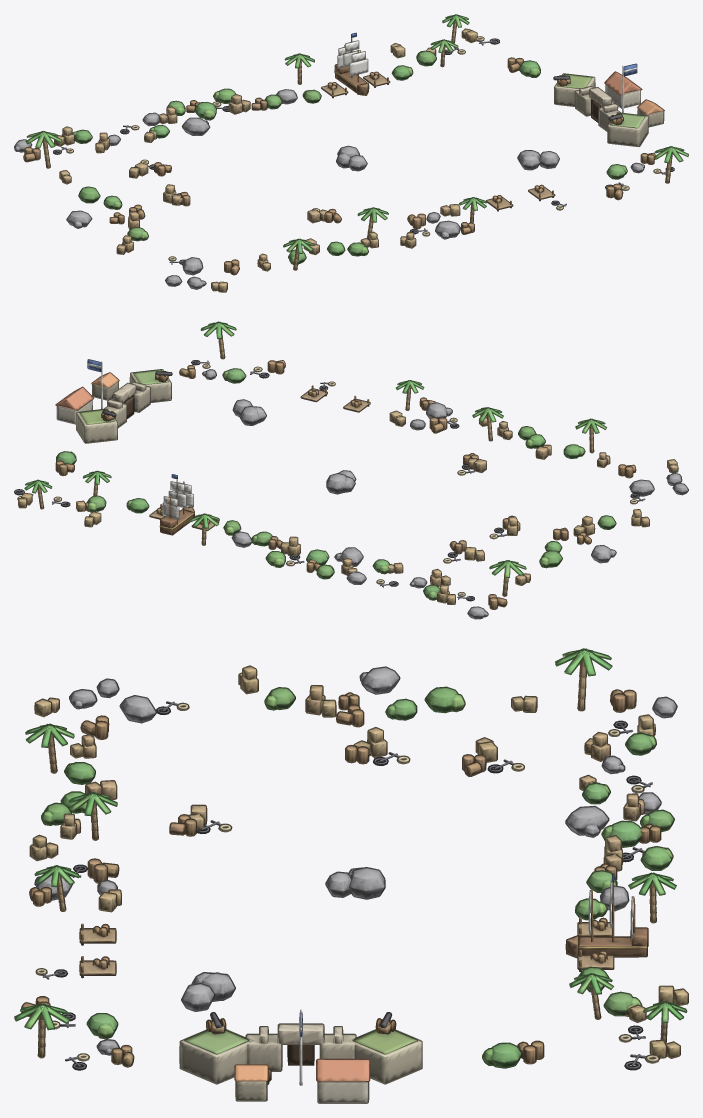
Rendered from smugglers_harbor.glb.
3 views of the same model, one above another, from view 1: azimuth 30°, elevation 25°; view 2: azimuth 150°, elevation 25°; view 3: azimuth 270°, elevation 25° (orthographic). The views are drawn at different scales.
Visible parts, largest first — view 1: Baked_matte, Baked_matte_Outline, Baked_metal; view 2: Baked_matte, Baked_matte_Outline, Baked_metal, Baked_metal_Outline; view 3: Baked_matte, Baked_matte_Outline, Baked_metal, Baked_metal_Outline.
Boxes of the visible parts, bbox=[...] form: Baked_matte: bbox=[15, 15, 688, 291]; Baked_matte_Outline: bbox=[14, 14, 688, 292]; Baked_metal: bbox=[53, 39, 673, 264]; Baked_matte: bbox=[18, 323, 688, 618]; Baked_matte_Outline: bbox=[17, 321, 688, 619]; Baked_metal: bbox=[15, 360, 645, 600]; Baked_metal_Outline: bbox=[14, 360, 639, 601]; Baked_matte: bbox=[15, 650, 687, 1102]; Baked_matte_Outline: bbox=[14, 648, 688, 1103]; Baked_metal: bbox=[42, 701, 652, 1069]; Baked_metal_Outline: bbox=[54, 706, 643, 1070].
Size of the model in its own units: 40.89 by 3.9 by 27.25.
